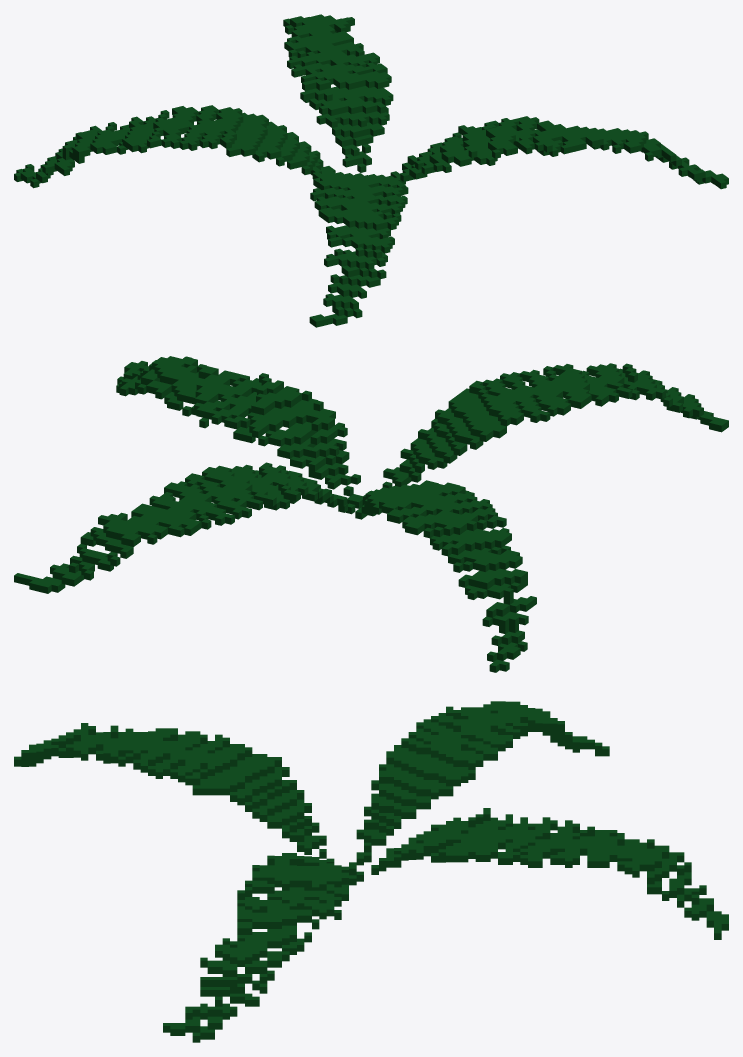
Rendered from Bushes-1.fbx.
3 views of the same model, one above another, from view 1: azimuth 30°, elevation 25°; view 2: azimuth 150°, elevation 25°; view 3: azimuth 270°, elevation 25° (orthographic). The views are drawn at different scales.
Visible parts, largest first — view 1: Bushes-1; view 2: Bushes-1; view 3: Bushes-1.
Part boxes in pixels (bbox=[...]): Bushes-1: bbox=[14, 14, 728, 327]; Bushes-1: bbox=[14, 356, 728, 672]; Bushes-1: bbox=[14, 701, 728, 1042].
Size of the model in its own units: 93 by 13 by 96.
